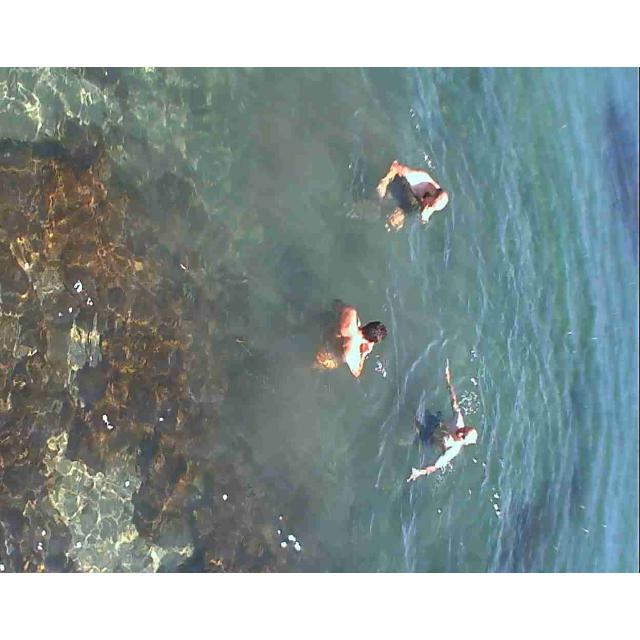human: (413, 354, 480, 495), (314, 293, 386, 384), (377, 152, 447, 238)
